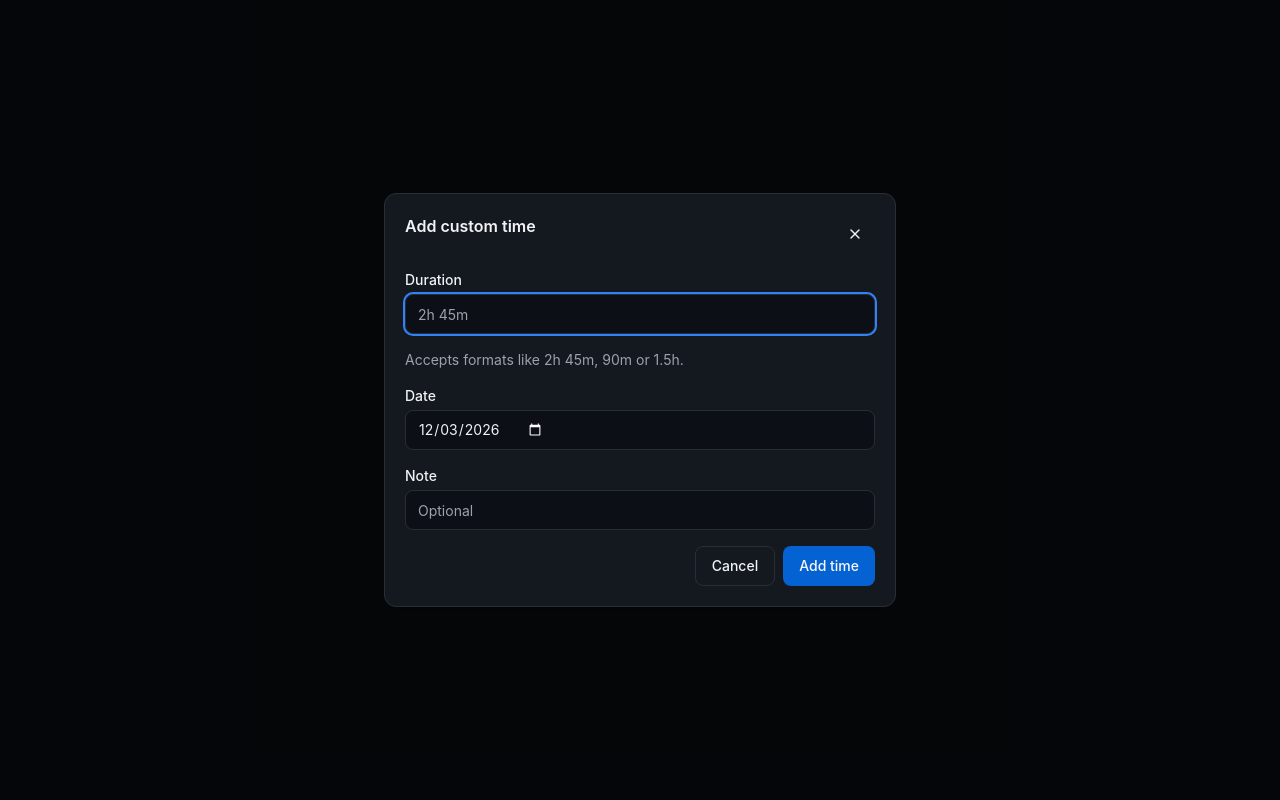
CustomDurationDialog › shows error when no project is provided
Step 1. Type "1h" into the field with placeholder "2h 45m" → {"x": 640, "y": 314}, box top-left (405, 294), bottom-right (875, 334)
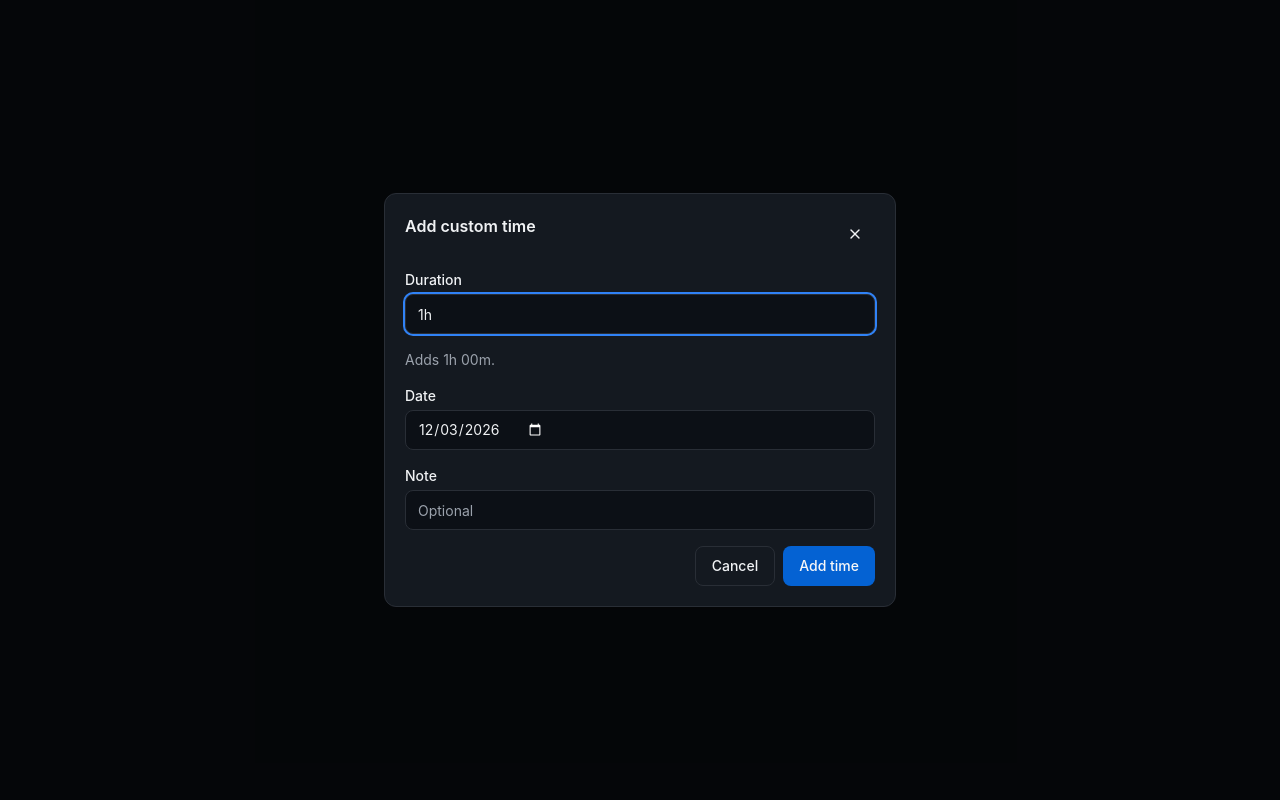
Step 2. Click the button "Add time" → {"x": 829, "y": 566}, box top-left (783, 546), bottom-right (875, 586)
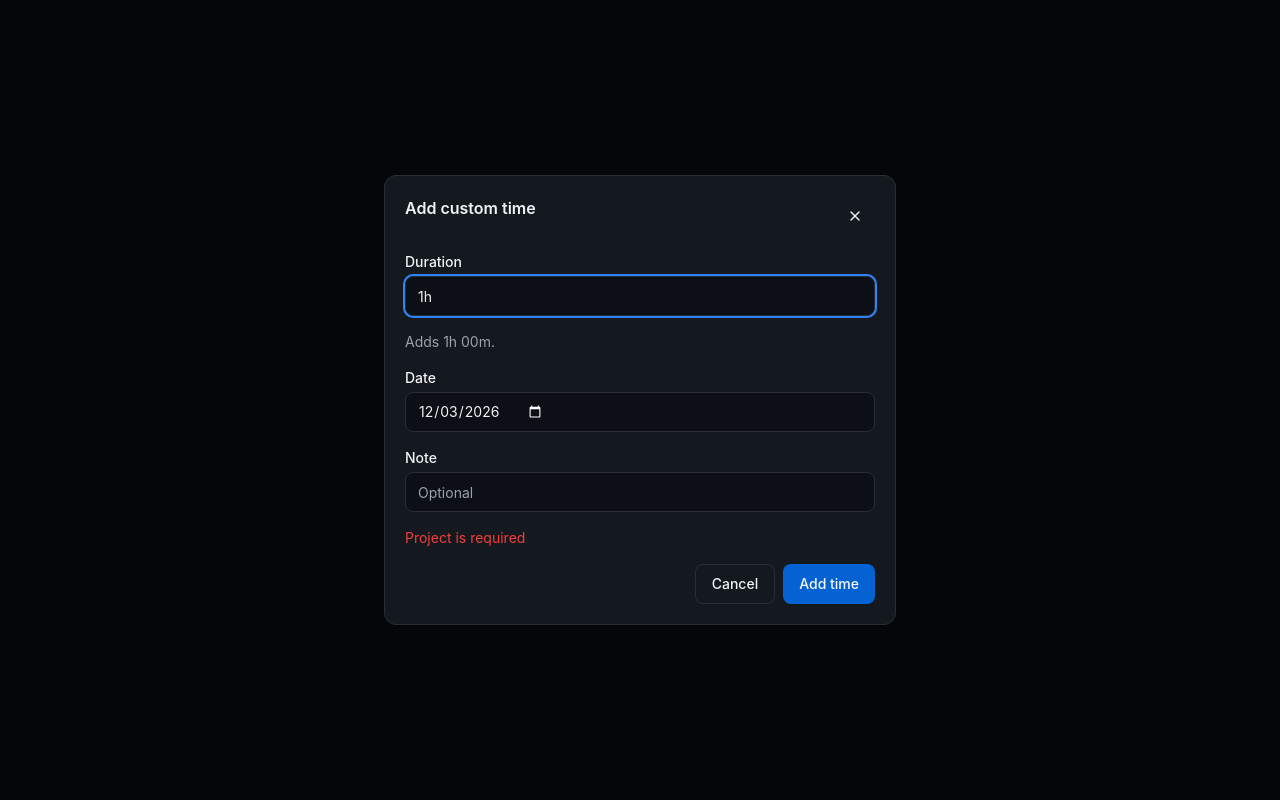
expect the text "Project is required" is shown: met, box top-left (405, 529), bottom-right (525, 546)
